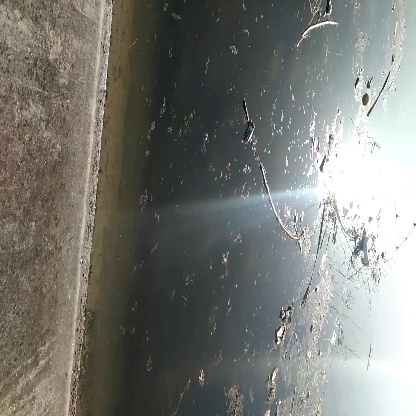branch: (260, 160, 304, 242)
